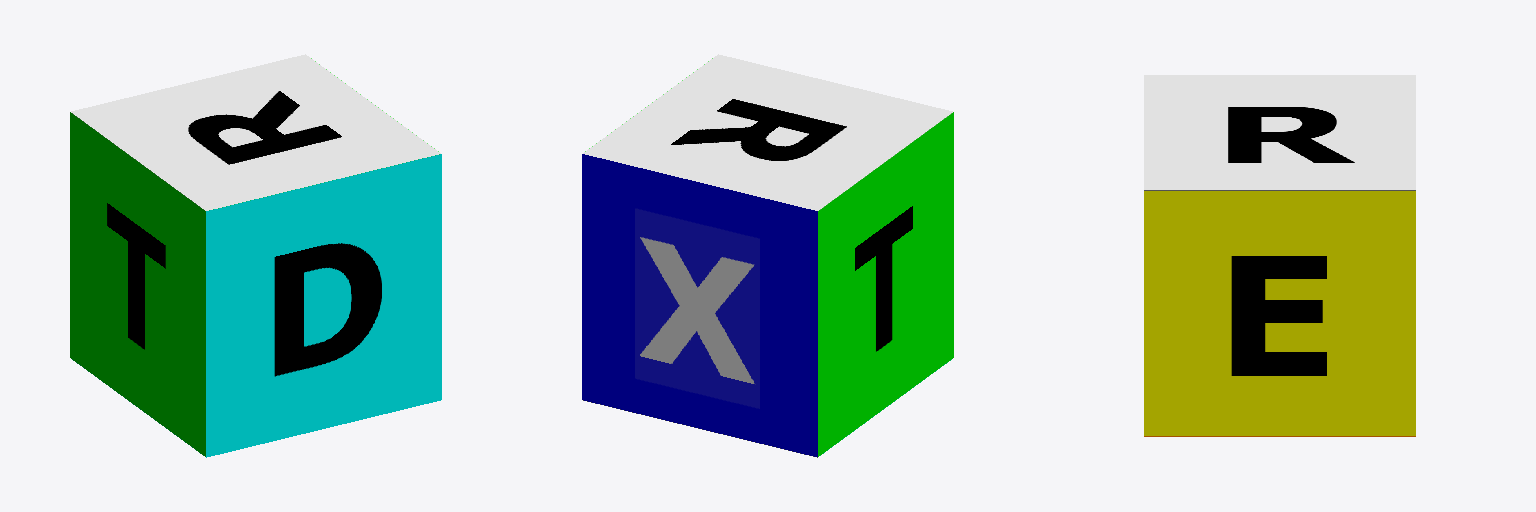
3 renders of one model, left to right at view 1: azimuth 30°, elevation 25°; view 2: azimuth 150°, elevation 25°; view 3: azimuth 270°, elevation 25°, orthographic.
Size of the model in its own units: 0.06 by 0.06 by 0.06.
Materials: 1 (1 with a texture image).